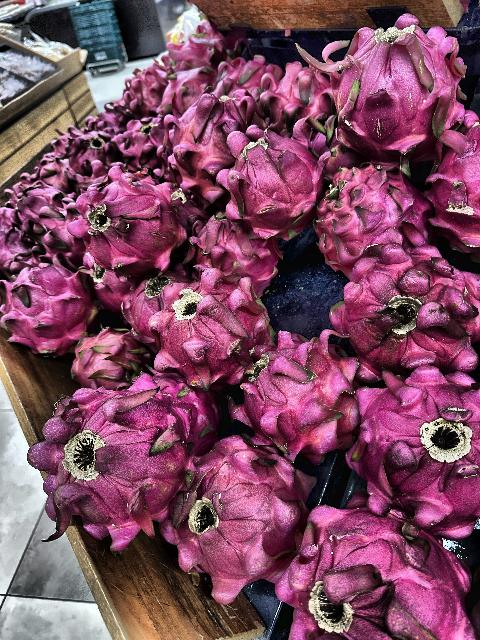buah-naga-matang: (288, 502, 474, 640), (305, 19, 469, 167), (322, 238, 480, 382), (34, 390, 186, 530), (346, 375, 480, 527), (170, 445, 300, 595), (225, 340, 364, 456), (308, 149, 440, 257), (152, 284, 274, 392), (72, 185, 194, 272), (221, 131, 325, 229), (158, 101, 250, 205), (1, 267, 100, 363), (183, 209, 279, 303), (434, 125, 480, 272), (258, 66, 332, 126), (68, 335, 146, 385), (80, 248, 136, 312), (120, 126, 166, 168), (64, 132, 116, 166)
